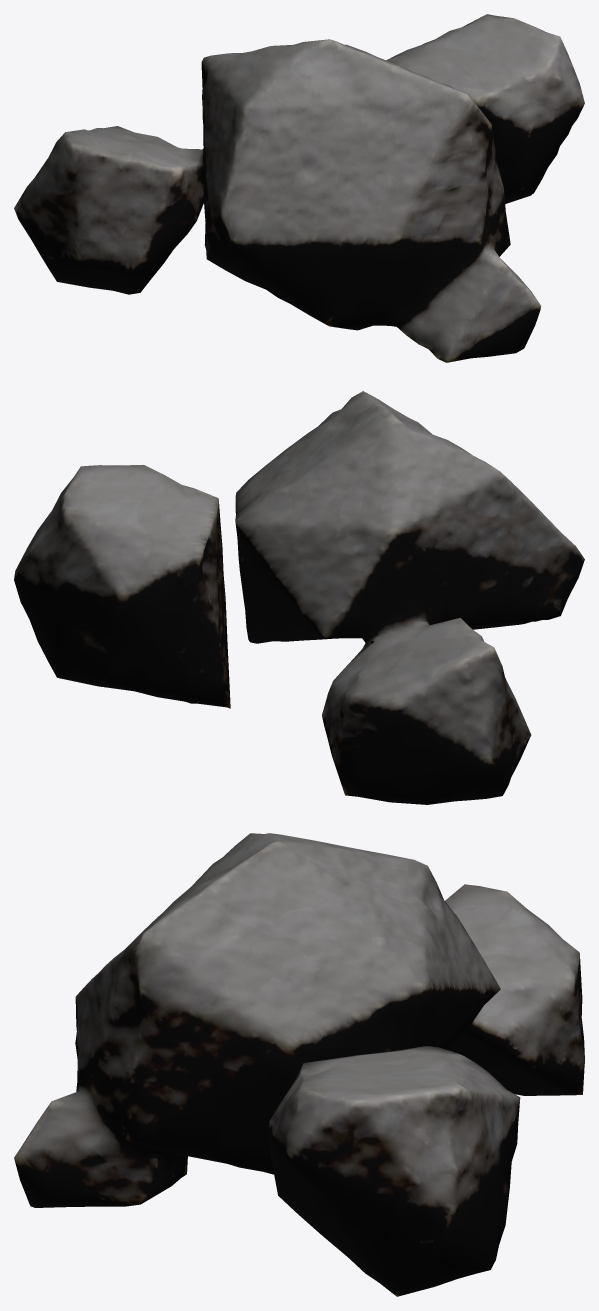
Rendered from boulder_cluster_c.glb.
3 renders of one model, top to bottom at view 1: azimuth 30°, elevation 25°; view 2: azimuth 150°, elevation 25°; view 3: azimuth 270°, elevation 25°, orthographic. The views are drawn at different scales.
Parts seen in each view (by area): view 1: rock; view 2: rock; view 3: rock.
Boxes of the visible parts, box(x1,y1,x2,y2) form: rock: box(14, 14, 584, 362); rock: box(14, 391, 584, 804); rock: box(14, 833, 584, 1296).
Bounding box in the file's own units: 1.47 × 0.7633 × 1.22.
1 material, 1 textured.
